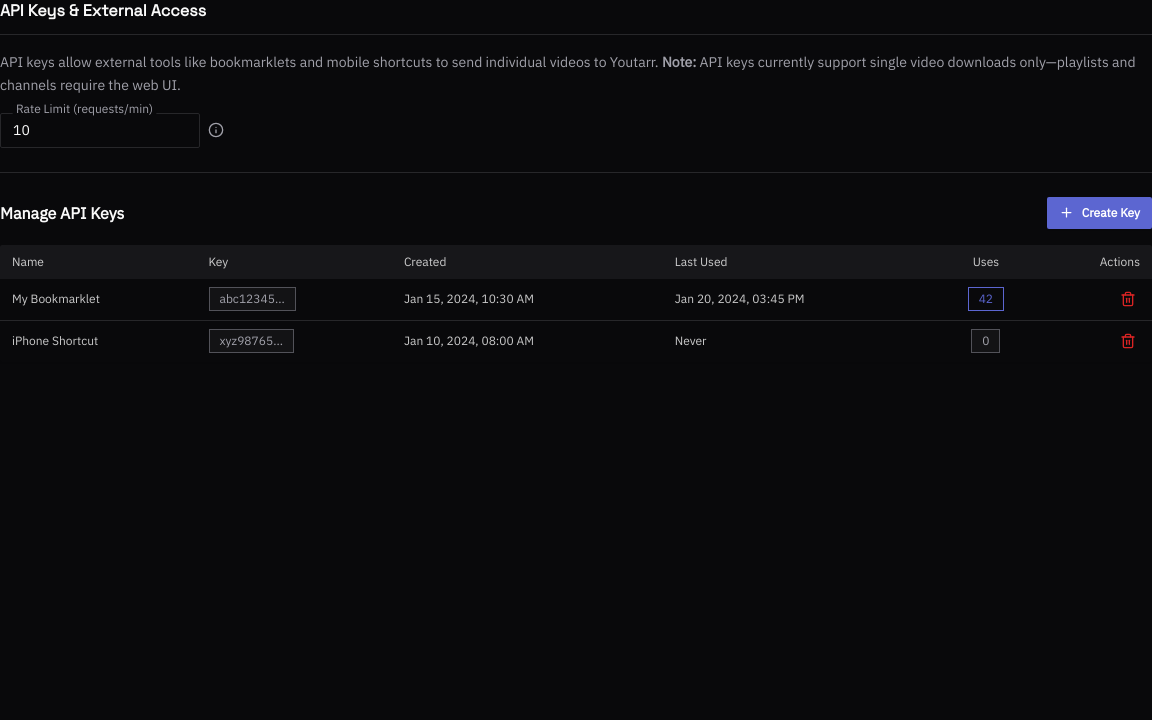
Test case: ApiKeysSection Component › Delete API Key › opens confirmation dialog when delete button is clicked
Expected: the text "My Bookmarklet" is shown, [0,278,196,320]
Click the button named "Delete" in the row of "My Bookmarklet" at (1128, 298), box [1116,286,1140,310]
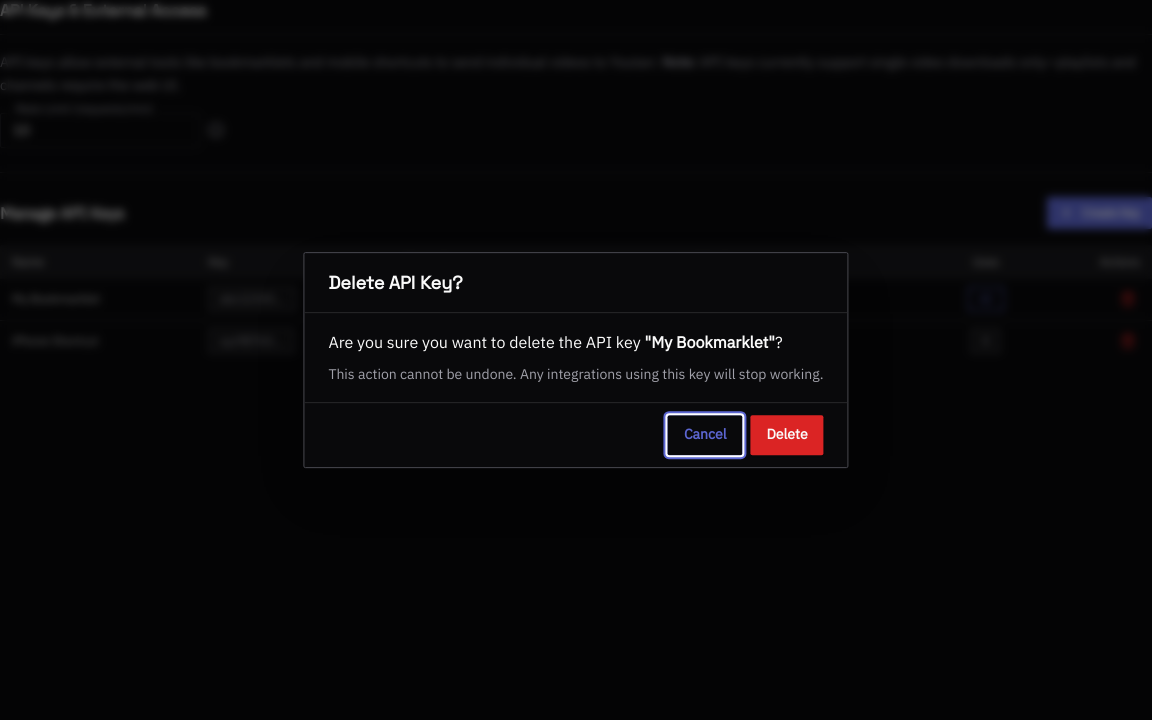
Expected: the text "Delete API Key?" is shown, [328,271,463,294]
Expected: the text "cannot be undone" is shown, [328,365,824,383]
